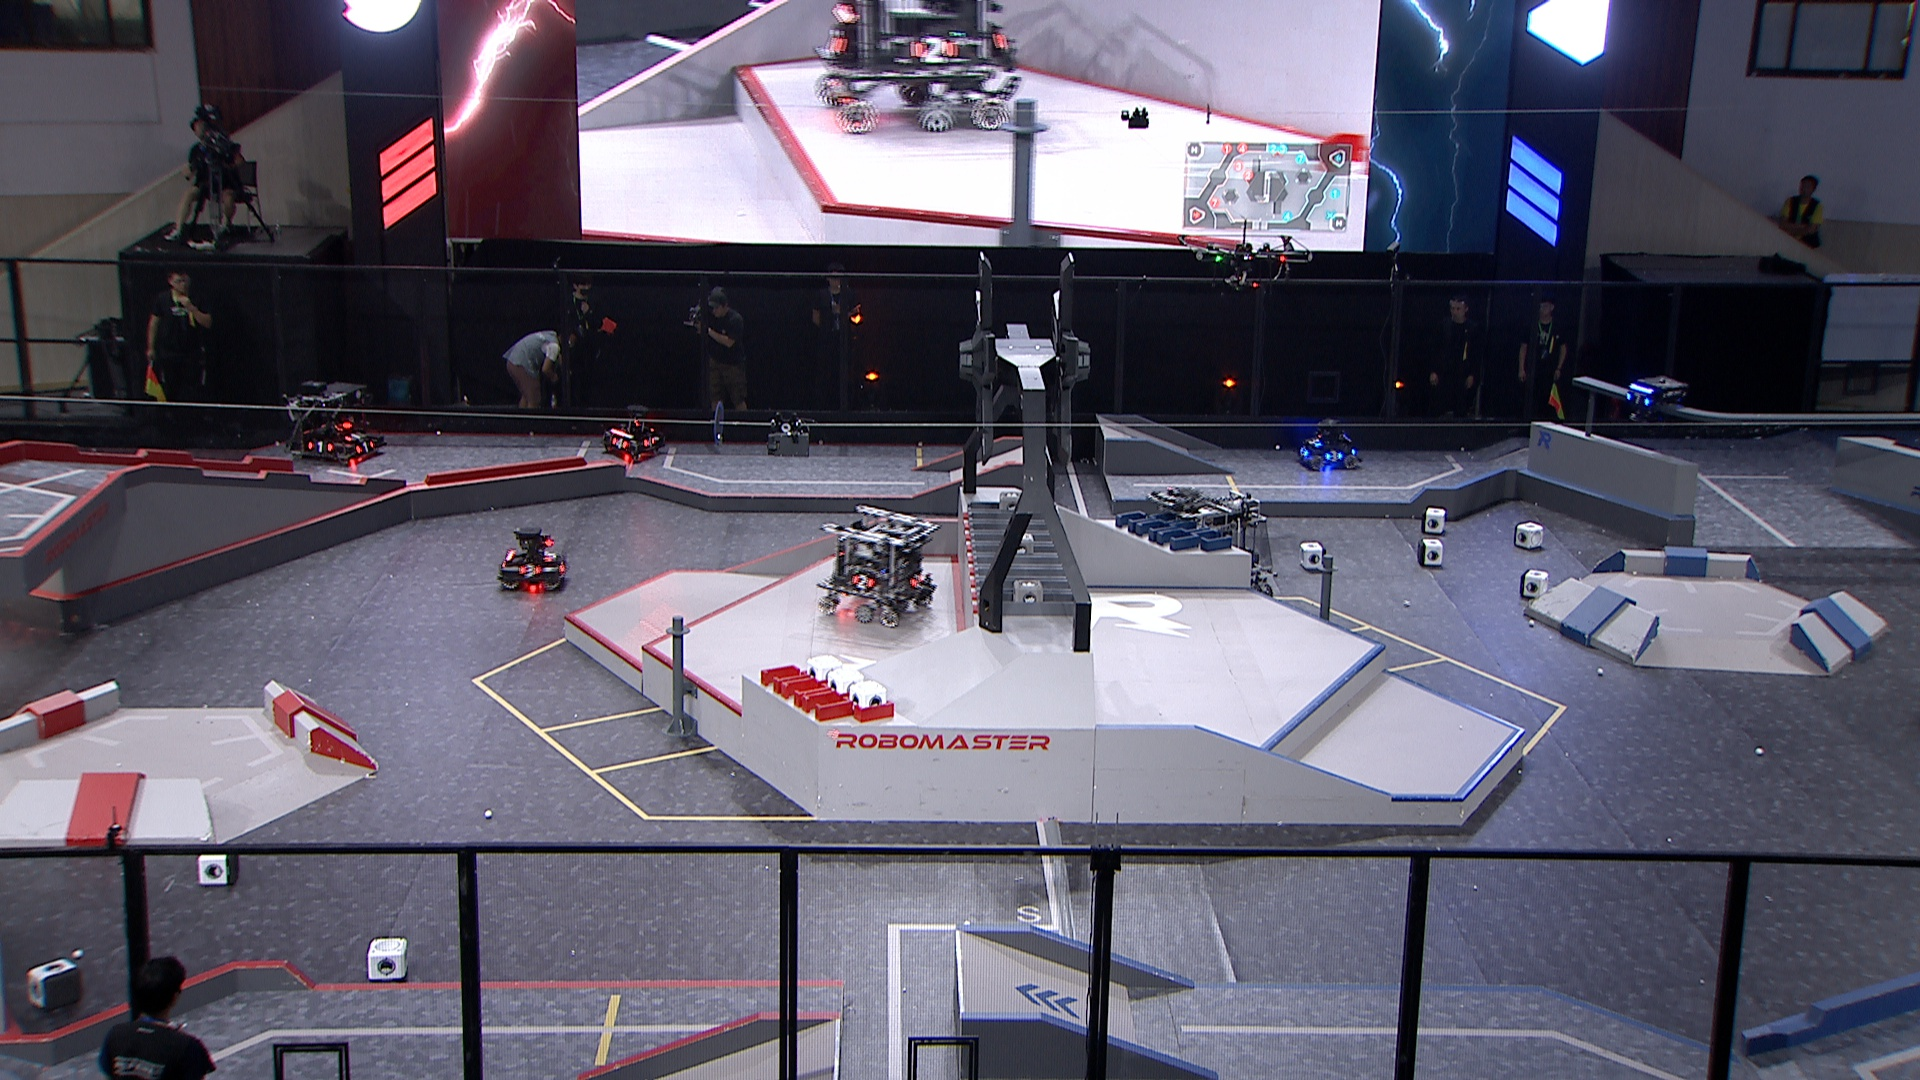armor: (851, 571, 874, 593), (352, 438, 376, 458), (1626, 389, 1651, 407), (305, 439, 334, 455), (906, 570, 926, 589), (518, 562, 541, 579), (343, 429, 367, 443), (542, 547, 560, 564), (611, 436, 629, 454), (1324, 446, 1342, 463), (642, 433, 659, 448), (1307, 434, 1324, 450), (556, 556, 570, 575), (1296, 443, 1309, 462)
car: (814, 504, 942, 629), (1143, 487, 1276, 605), (285, 376, 394, 465), (495, 522, 572, 593), (599, 404, 671, 463), (1288, 419, 1362, 473)
watcher: (1619, 368, 1689, 433)
